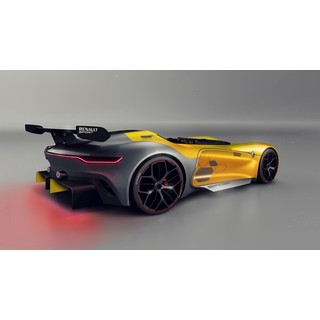car: (26, 110, 280, 218)
